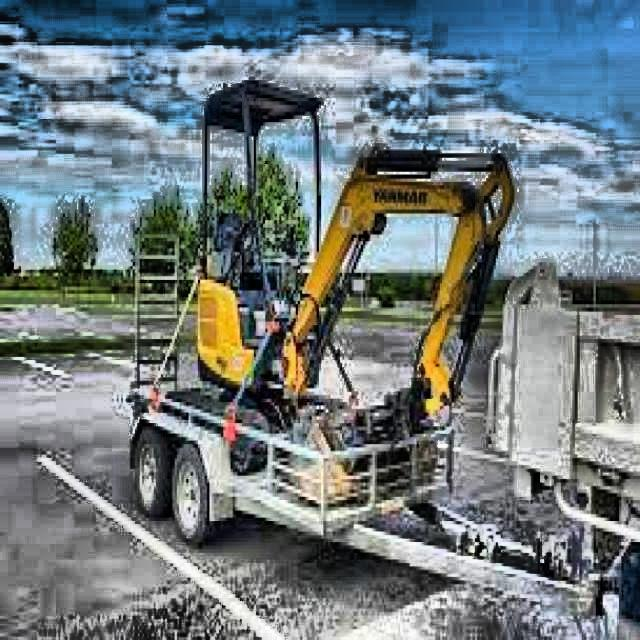bull_dozer/loader/grader: (158, 72, 516, 512)
person: (251, 308, 296, 432)
